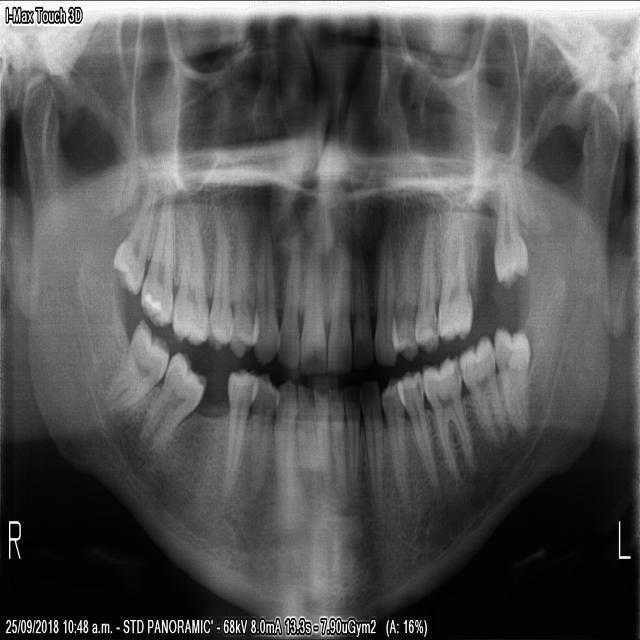LCD: (353, 386, 382, 509)
LCU: (389, 232, 423, 360)
LID: (326, 381, 348, 500), (340, 392, 360, 493)
LIU: (324, 245, 352, 375), (374, 228, 400, 365), (349, 251, 373, 374)
LMD: (455, 332, 509, 449), (491, 321, 532, 438)
LMU: (492, 175, 529, 292)
LPMD: (420, 353, 474, 483), (396, 372, 439, 495), (379, 374, 410, 518)
LPMU: (434, 207, 473, 342), (414, 239, 438, 355)
RCD: (273, 379, 298, 478)
RCU: (251, 233, 281, 365)
RID: (311, 386, 332, 485), (295, 380, 316, 474)
RIU: (273, 247, 302, 372), (299, 252, 325, 375)
RMD: (101, 314, 170, 417), (142, 347, 209, 447)
RMU: (108, 193, 157, 297), (137, 201, 175, 334), (170, 219, 208, 345)
RPMD: (219, 365, 258, 491), (248, 375, 279, 498)
RPMU: (227, 229, 257, 361), (205, 213, 232, 353)
